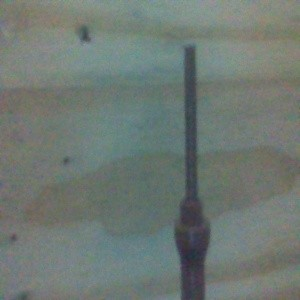obeng: (172, 45, 212, 300)
